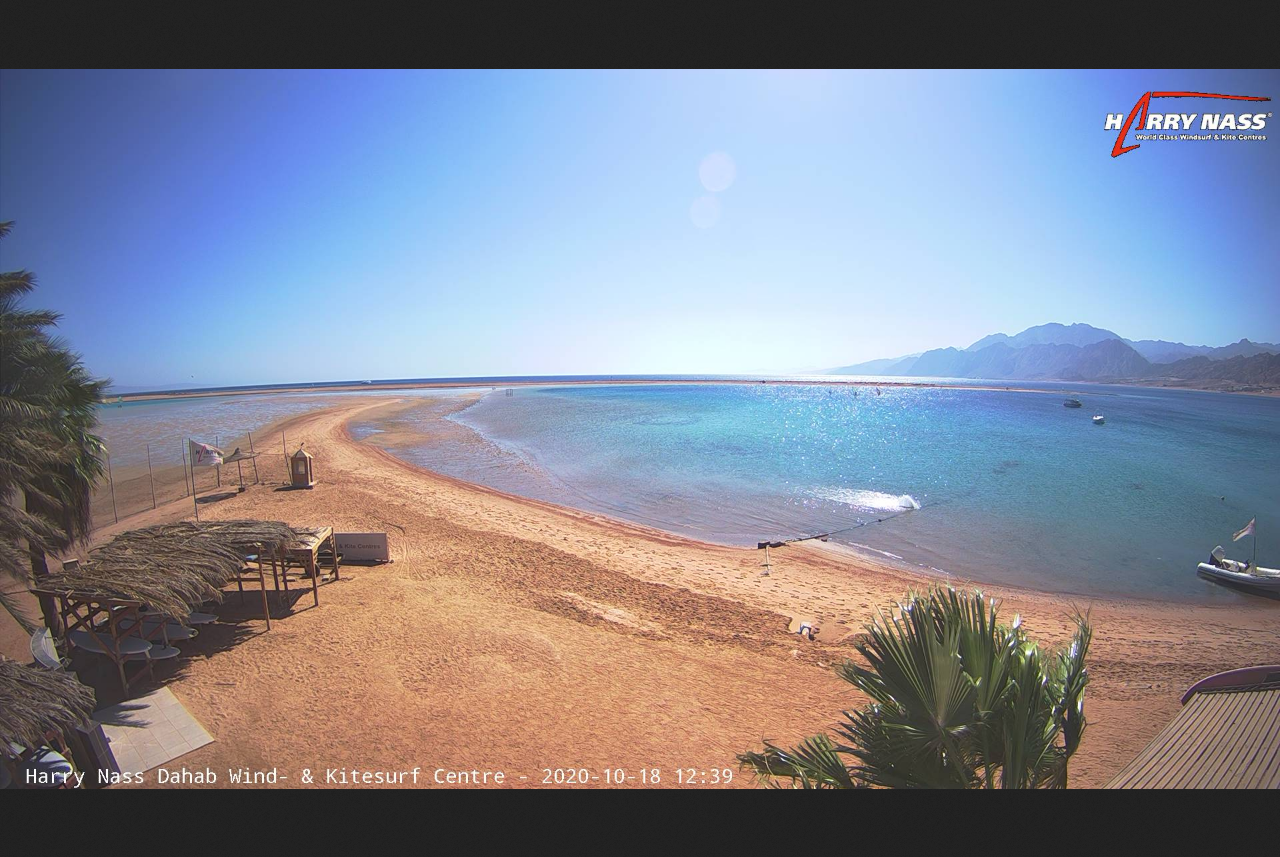yes: (190, 440, 227, 471)
